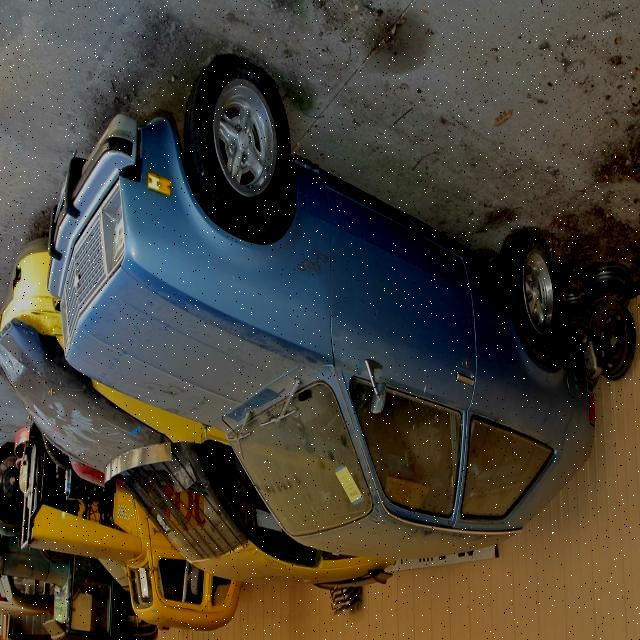car: (47, 49, 596, 555)
